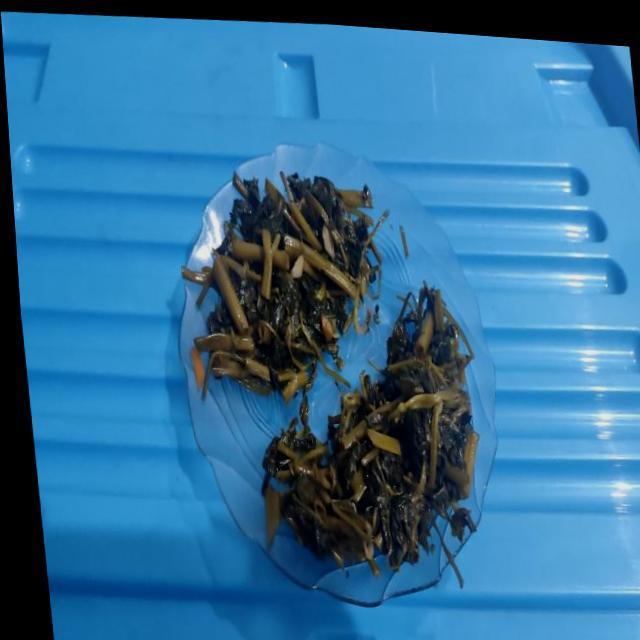tumis_kangkung: (262, 285, 478, 576), (182, 172, 388, 404)
